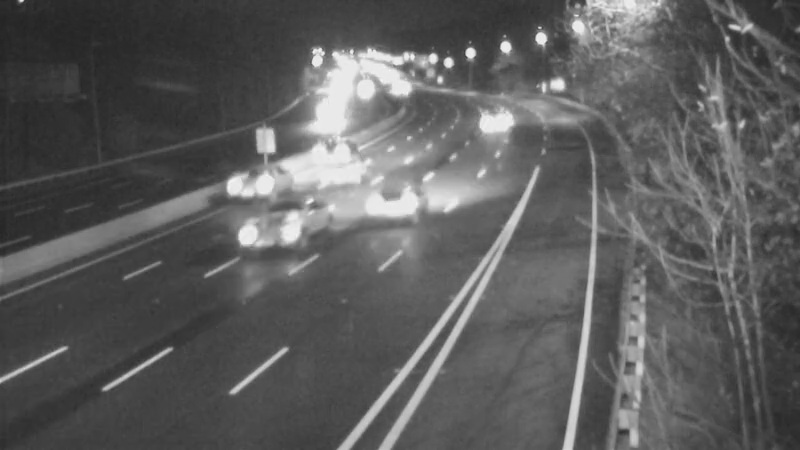vehicle: (206, 145, 286, 225), (220, 190, 300, 270), (349, 156, 429, 236), (462, 91, 512, 141), (307, 118, 357, 168)
